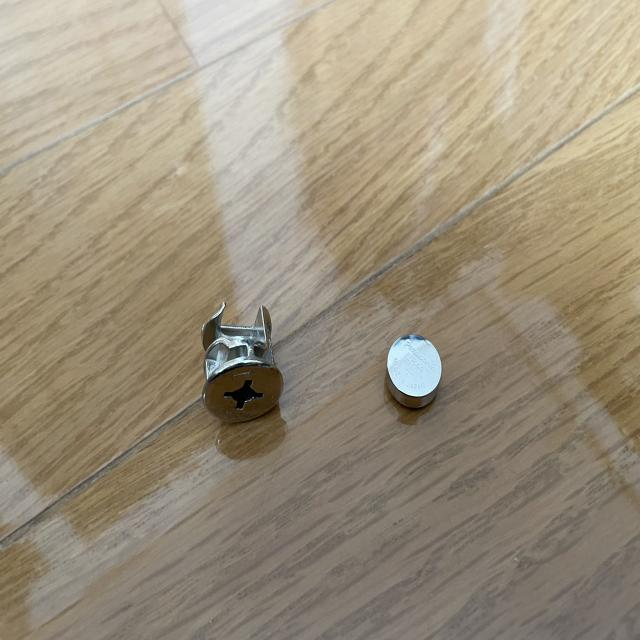COIN: (384, 333, 441, 411)
